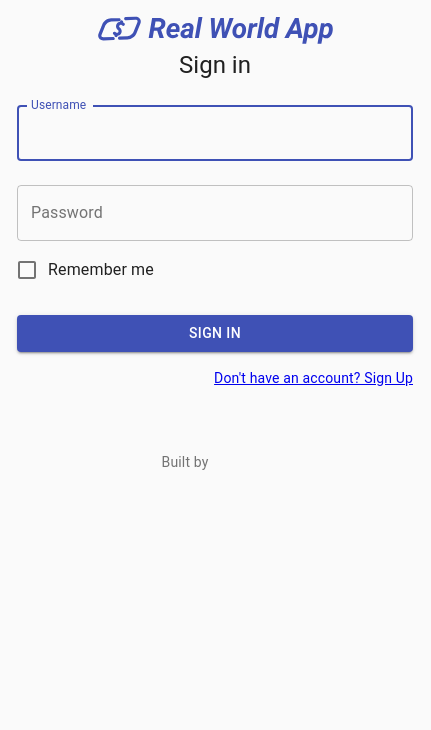
it: create account › show confirm password match error message
Click the link with test id "signup" at (314, 378), box top-left (214, 370), bottom-right (413, 386)
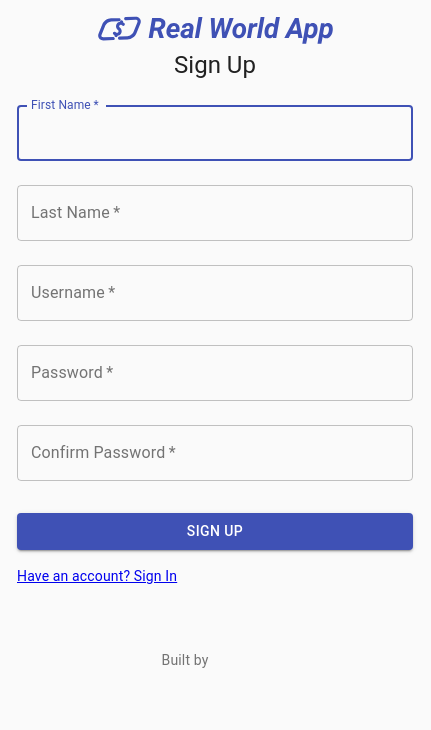
Type "123456" into the password field named "password" at (215, 373), box top-left (17, 345), bottom-right (413, 401)
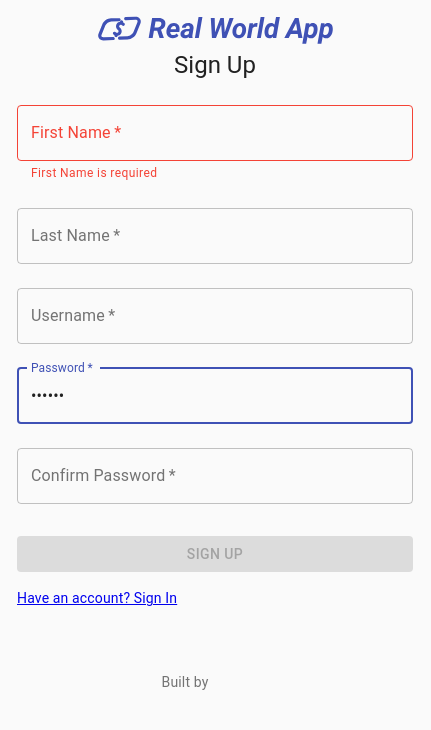
Type "123" into the password field with id "confirmPassword" at (215, 476), box top-left (17, 448), bottom-right (413, 504)
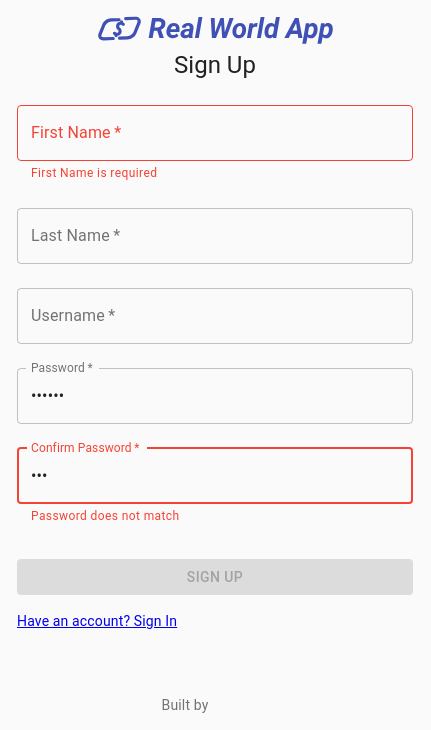
Expected: the text with test id "signup-confirmPassword" reads "Password does not match", top-left (31, 509), bottom-right (180, 523)
